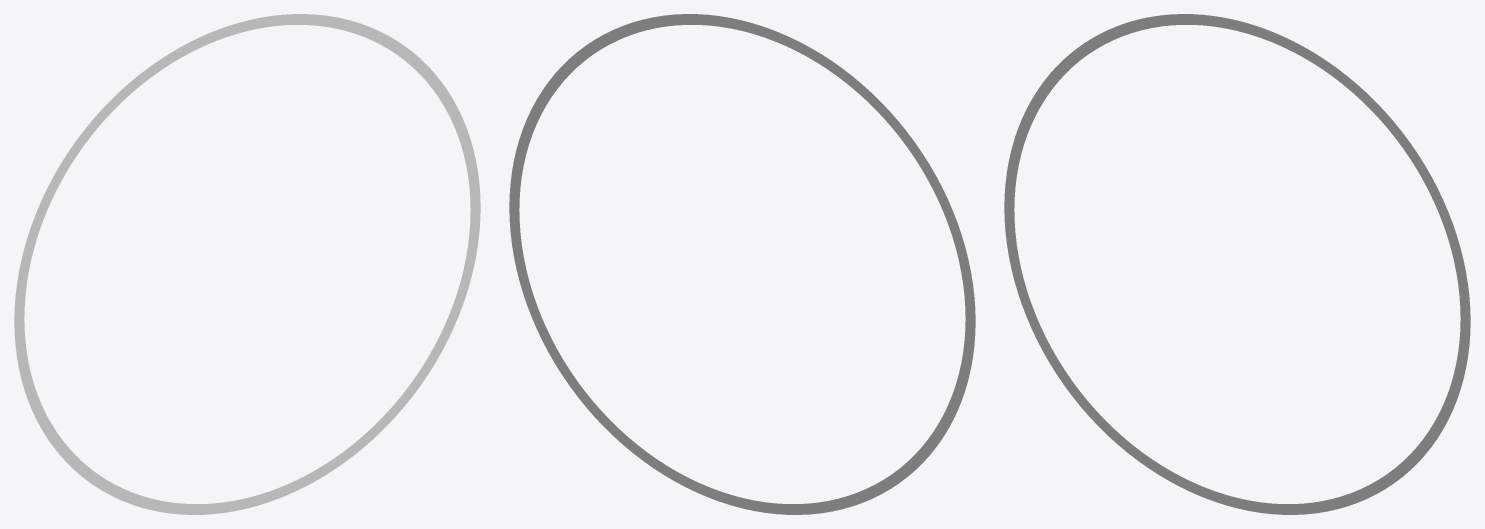
Rendered from RingGlow4.obj.
3 renders of one model, left to right at view 1: azimuth 30°, elevation 25°; view 2: azimuth 150°, elevation 25°; view 3: azimuth 330°, elevation 25°, orthographic.
Parts seen in each view (by area): view 1: RingGlow4; view 2: RingGlow4; view 3: RingGlow4.
Boxes of the visible parts, x1,y1,x2,y2 form: RingGlow4: [14, 14, 480, 514]; RingGlow4: [509, 14, 975, 514]; RingGlow4: [1004, 14, 1470, 514].
Size of the model in its own units: 12.06 by 12.06 by 0.
Materials: 1 (1 with a texture image).
